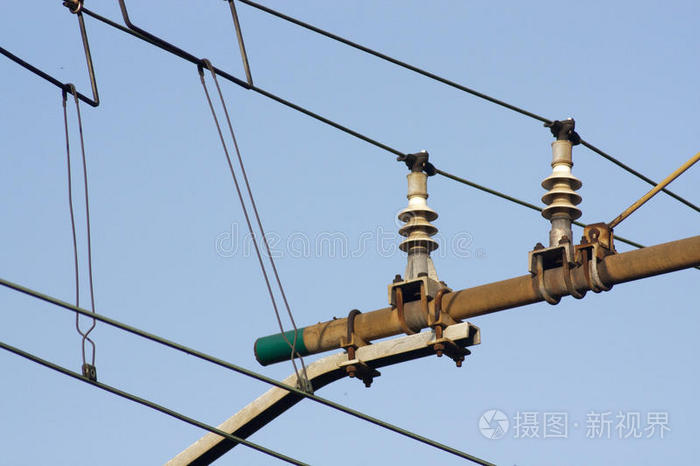insulator: (391, 204, 442, 254), (538, 172, 587, 221)
